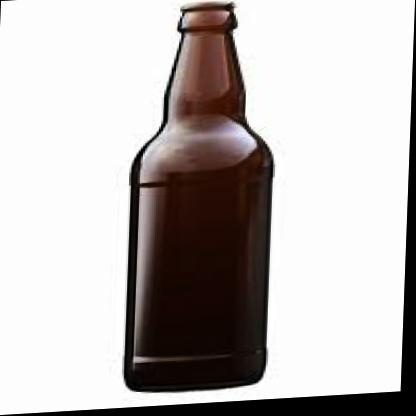trash: (125, 3, 272, 390)
